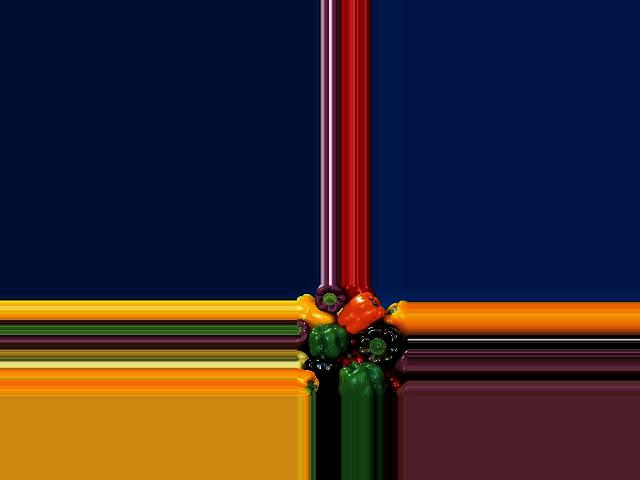bell_pepper: (339, 365, 387, 397)
